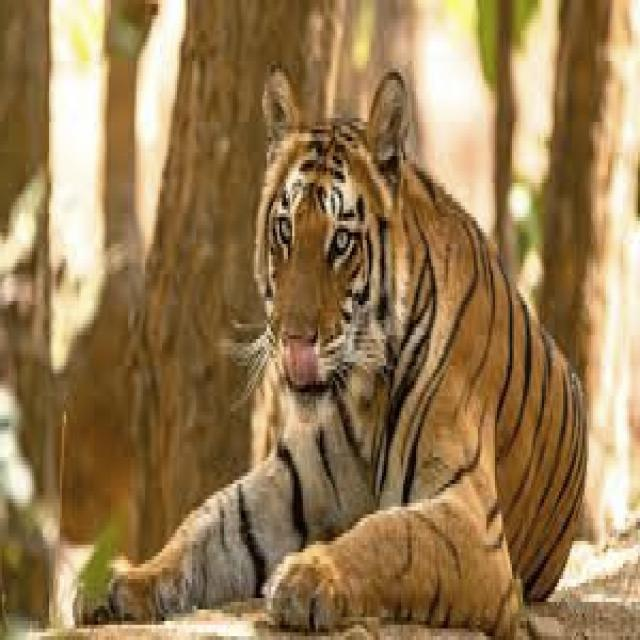tiger: (83, 69, 587, 636)
